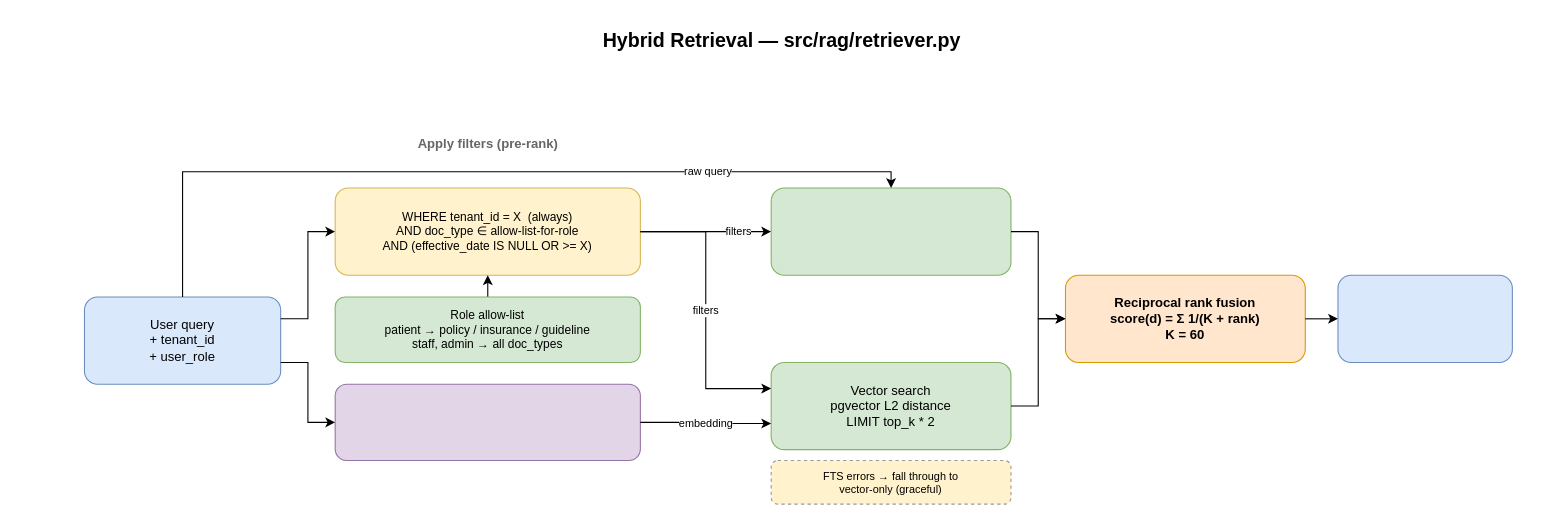
Image size: 1563x523. Some labels were removed from this diagram. Each missing label, with the centre of its shape:
"get_embedding() GenAI SDK + 3072-dim vector (deterministic mock fallback)" goes at point 487,422.
"Lexical search (FTS) to_tsvector @@ plainto_tsquery LIMIT top_k * 2" goes at point 890,231.
"Top-k merged docs { id, title, content, doc_type }" goes at point 1424,318.
